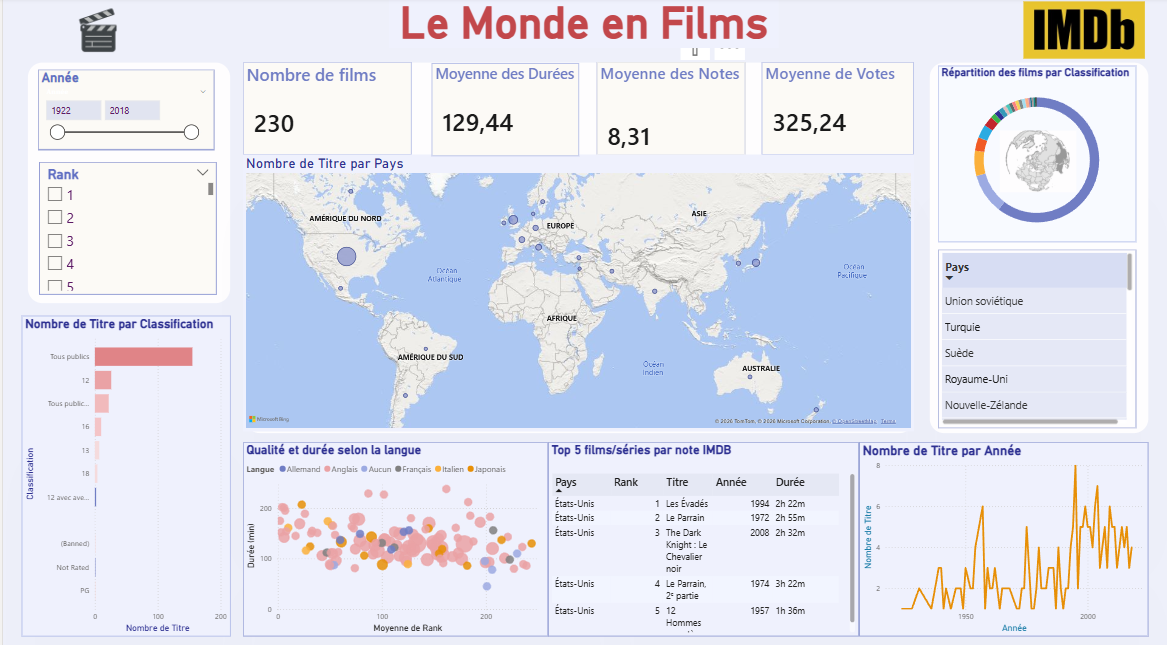

What the dashboard file says about the page in this screenshot:
{"tool":"powerbi","page":{"name":"Population","canvas":[1920,1080],"ordinal":0},"visuals":[{"type":"tableEx","title":"Top 5 films/séries par note IMDB","fields":{"Values":["IMDB cleared (2).Pays","IMDB cleared (2).Rank","IMDB cleared (2).Titre","IMDB cleared (2).Année","IMDB cleared (2).Durée"]},"box":[898,732,512,320],"z":0},{"type":"tableEx","fields":{"Values":["IMDB cleared (2).Pays"]},"box":[1540,416,326,294],"z":1000},{"type":"cardVisual","title":"Moyenne des Notes ","fields":{"Data":["Avg(IMDB cleared (2).Note)"]},"box":[977.5,107.5,245,152.5],"z":2000},{"type":"pieChart","title":"Répartition des films par Classification","fields":{"Category":["IMDB cleared (2).Pays","IMDB cleared (2).Rank"],"Y":["CountNonNull(IMDB cleared (2).Titre)"]},"box":[1540,114,326,290],"z":3000},{"type":"textSearchSlicerF85E2E78BE4A4D7D9F99ED75B5D71C85","fields":{"fields":["Countries.Country"]},"box":[490,306,290,148],"z":4000},{"type":"cardVisual","title":"Nombre de films","fields":{"Data":["CountNonNull(IMDB cleared (2).Titre)"]},"box":[395,107.5,277.5,152.5],"z":5000},{"type":"cardVisual","title":"Moyenne de Votes","fields":{"Data":["Avg(IMDB cleared (2).Votes)"]},"box":[1250,107.5,250,152.5],"z":6000},{"type":"map","fields":{"Category":["IMDB cleared (2).Pays"],"Size":["CountNonNull(IMDB cleared (2).Titre)"]},"box":[395,260,1105,455],"z":7000},{"type":"cardVisual","title":"Moyenne des Durées","fields":{"Data":["Avg(IMDB cleared (2).Durée (min))"]},"box":[705,110,242.5,152.5],"z":8000},{"type":"slicer","title":"Année","fields":{"Values":["IMDB cleared (2).Année"]},"box":[58,126,290,132],"z":9000},{"type":"slicer","fields":{"Values":["IMDB cleared (2).Rank"]},"box":[60,272,292,218],"z":10000},{"type":"barChart","fields":{"Y":["CountNonNull(IMDB cleared (2).Titre)"],"Category":["IMDB cleared (2).Classification"]},"box":[30,524,344,528],"z":11000},{"type":"lineChart","fields":{"Category":["IMDB cleared (2).Année"],"Y":["CountNonNull(IMDB cleared (2).Titre)"]},"box":[1410,732,476,320],"z":12000},{"type":"scatterChart","title":"Qualité et durée selon la langue","fields":{"X":["Avg(IMDB cleared (2).Rank)"],"Size":["CountNonNull(IMDB cleared (2).Titre)"],"Series":["IMDB cleared (2).Langue"],"Y":["IMDB cleared (2).Durée (min)"]},"box":[396,732,502,320],"z":13000},{"type":"image","box":[1636,208,136,126],"z":14000},{"type":"textbox","title":"Le Monde en Films","box":[635.7,0,641.4,84.3],"z":15000},{"type":"image","box":[1676,0,210,108],"z":16000},{"type":"image","box":[0,0,314,110],"z":17000}]}

Visuals, with their boxes in screenshot pixels (x1, y1, x2, y2), scaled from the page's 1920x1080 canvas onto the 1167x645 screenshot:
"Top 5 films/séries par note IMDB" tableEx: <box>546,437,857,628</box>
tableEx - IMDB cleared (2).Pays: <box>936,248,1134,424</box>
"Moyenne des Notes " cardVisual: <box>594,64,743,155</box>
"Répartition des films par Classification" pieChart: <box>936,68,1134,241</box>
textSearchSlicerF85E2E78BE4A4D7D9F99ED75B5D71C85 - Countries.Country: <box>298,183,474,271</box>
"Nombre de films" cardVisual: <box>240,64,409,155</box>
"Moyenne de Votes" cardVisual: <box>760,64,912,155</box>
map - IMDB cleared (2).Pays x CountNonNull(IMDB cleared (2).Titre): <box>240,155,912,427</box>
"Moyenne des Durées" cardVisual: <box>429,66,576,157</box>
"Année" slicer: <box>35,75,212,154</box>
slicer - IMDB cleared (2).Rank: <box>36,162,214,293</box>
barChart - CountNonNull(IMDB cleared (2).Titre) x IMDB cleared (2).Classification: <box>18,313,227,628</box>
lineChart - IMDB cleared (2).Année x CountNonNull(IMDB cleared (2).Titre): <box>857,437,1146,628</box>
"Qualité et durée selon la langue" scatterChart: <box>241,437,546,628</box>
image: <box>994,124,1077,199</box>
"Le Monde en Films" textbox: <box>386,0,776,50</box>
image: <box>1019,0,1146,64</box>
image: <box>0,0,191,66</box>
